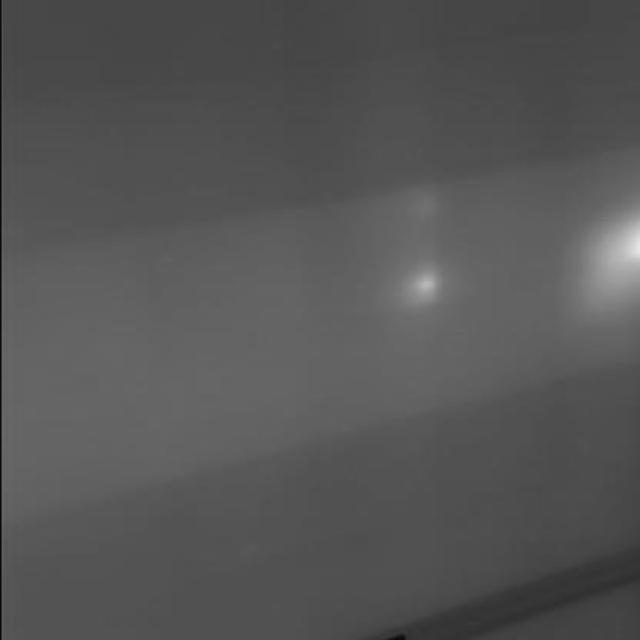hotspot: (562, 214, 638, 315), (400, 261, 438, 317)
